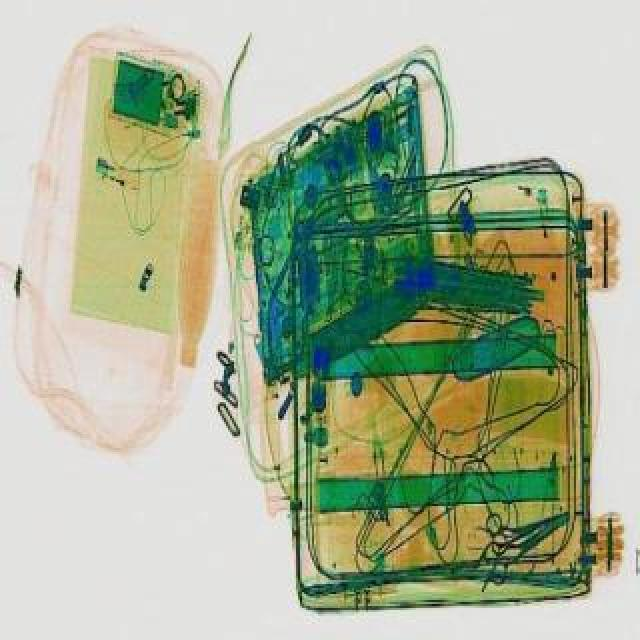pliers: (468, 500, 578, 584), (478, 486, 574, 550)
